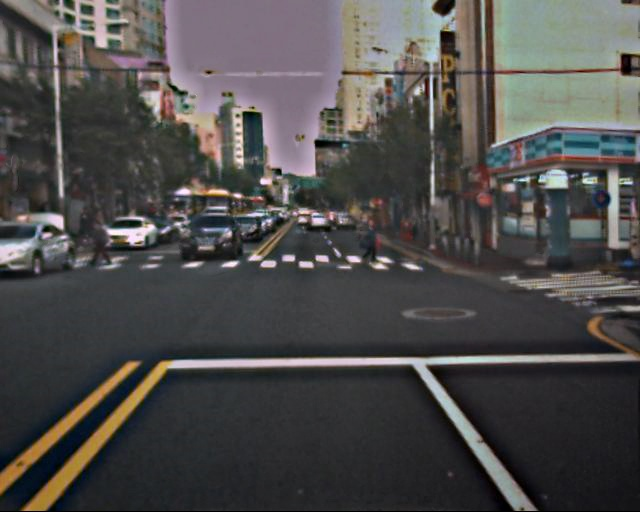person: (360, 217, 382, 270), (88, 220, 109, 272)
